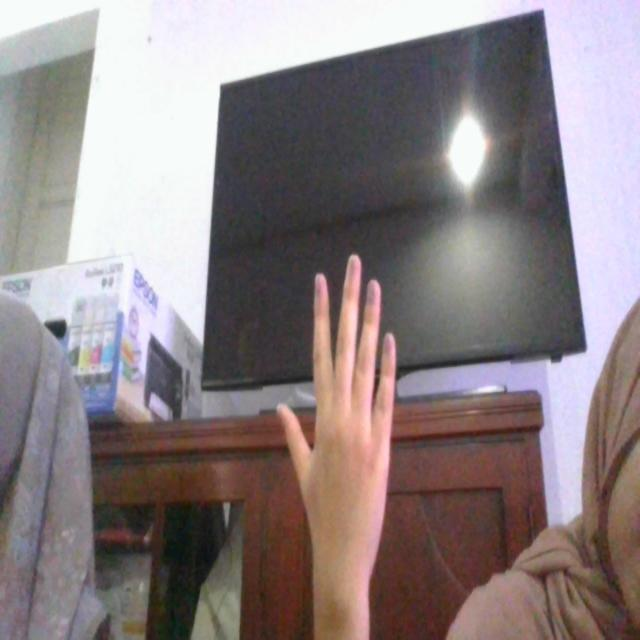hand: (271, 226, 432, 640)
